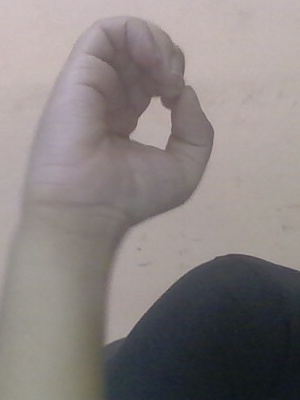O: (8, 10, 236, 242)
